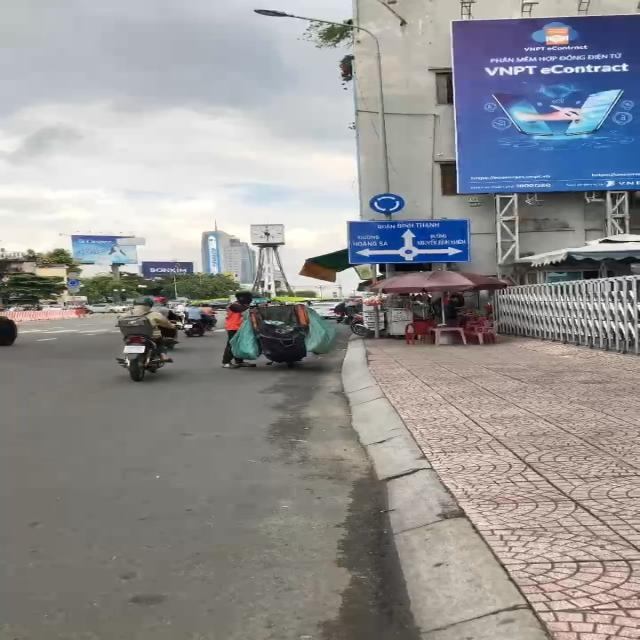Bien bao noi giao nhau chay theo vong xuyen: (368, 193, 412, 216)
